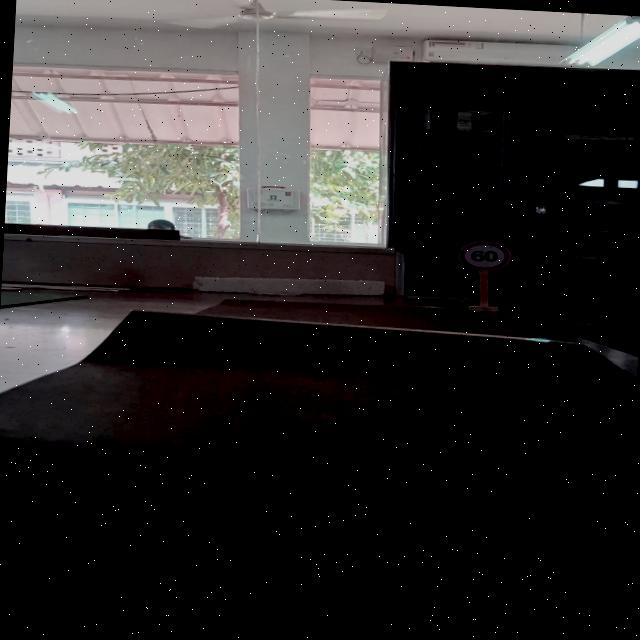Speed60: (456, 238, 513, 274)
